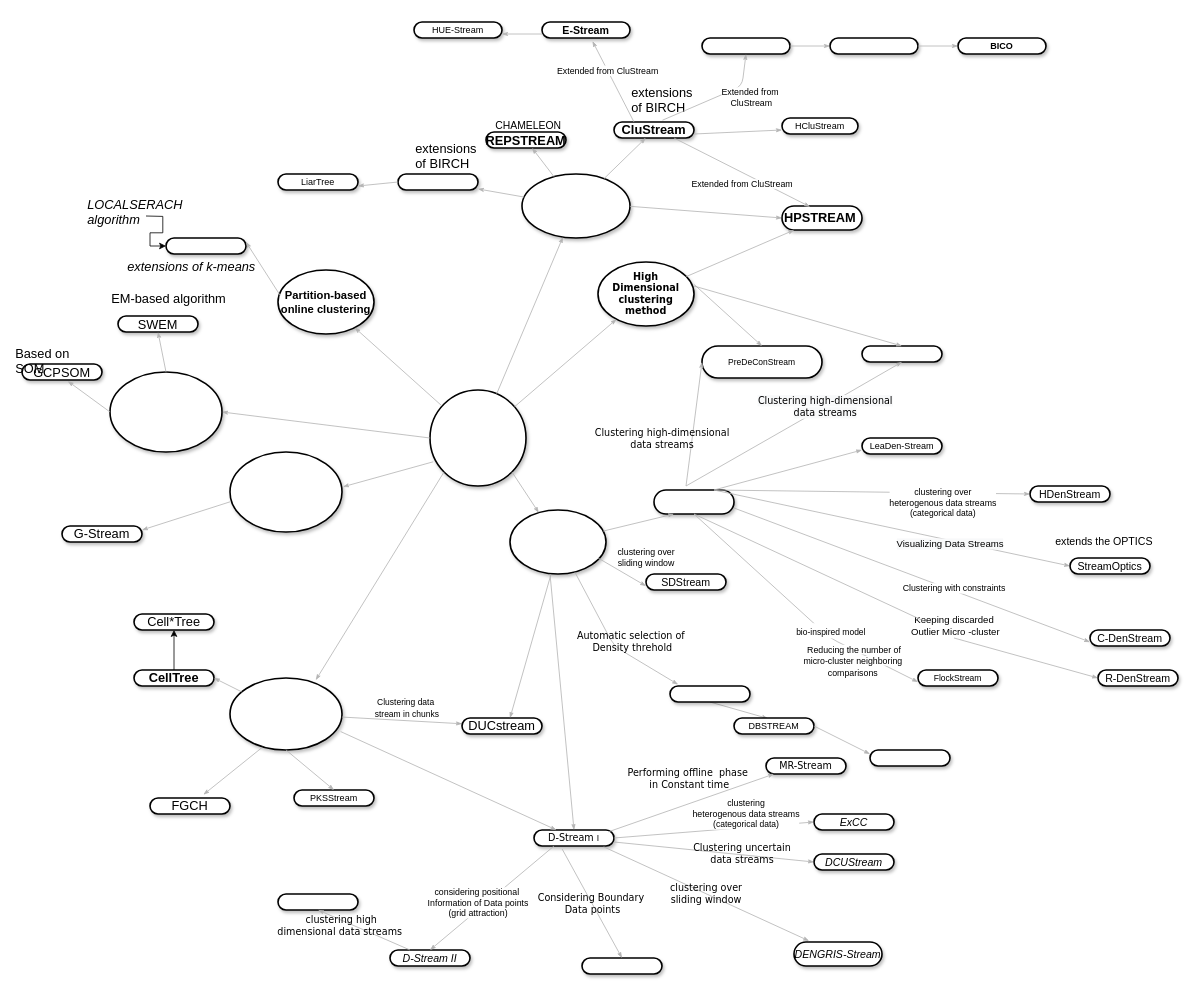
The diagram is 1197 pixels wide and 994 high, and some of its shapes have lost their labels. Here are the shapes that lost their labels. From the top down, the centre of each, then its label:
the point at 746,47: SWClustering
the point at 874,47: StreamKM ++
the point at 438,183: ClusTree
the point at 576,207: Hierarchical clustering method
the point at 206,247: STREAM
the point at 902,355: HDDStream
the point at 166,413: Model-based clustering methods
the point at 478,439: online clustering
the point at 286,493: Graph-based clustering methods
the point at 694,503: Den-Stream
the point at 558,543: Density based online clustering
the point at 286,715: Grid-based clustering
the point at 710,695: SOStream
the point at 910,759: evoStream
the point at 318,903: PKS-Stream
the point at 622,967: DD-Stream
